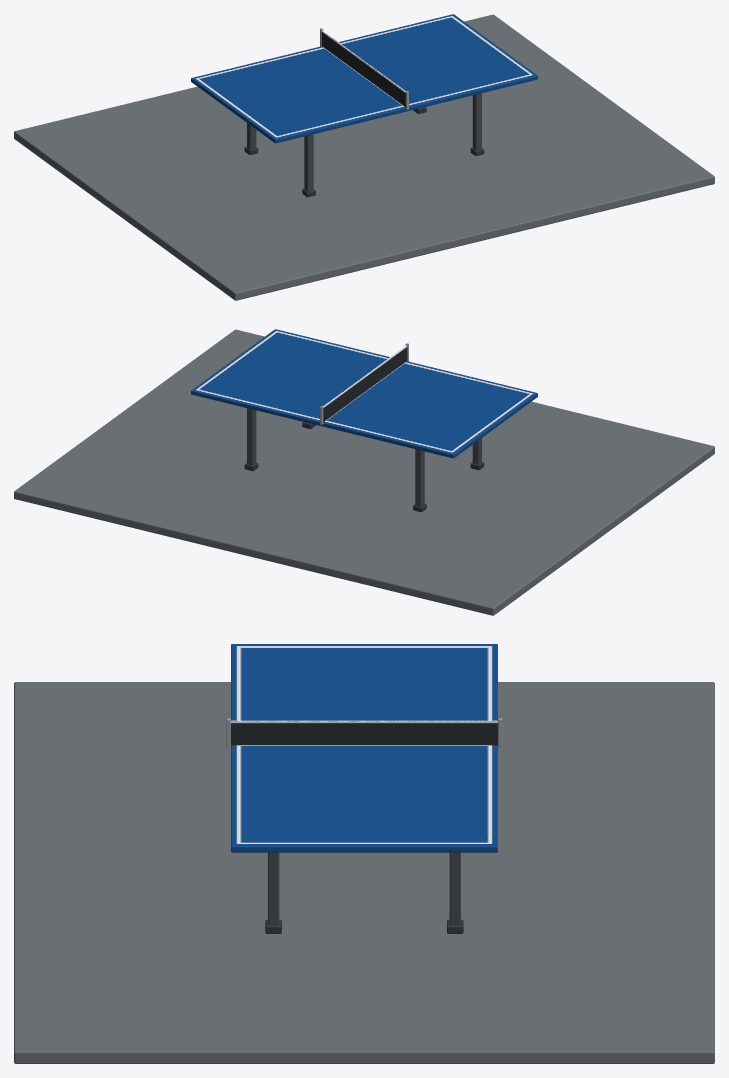
File: MesaTenis.fbx
The picture shows the model from 3 angles, top to bottom: view 1: azimuth 30°, elevation 25°; view 2: azimuth 150°, elevation 25°; view 3: azimuth 270°, elevation 25°; orthographic projection. The views are drawn at different scales.
Parts seen in each view (by area): view 1: Piso de referencia, Tablero azul con líneas, Red de tenis de mesa, Pata metálica, Pata metálica.002; view 2: Piso de referencia, Tablero azul con líneas, Red de tenis de mesa, Pata metálica.001, Pata metálica.003; view 3: Piso de referencia, Tablero azul con líneas, Red de tenis de mesa, Borde superior blanco de red, Pata metálica.002, Pata metálica.003.
Boxes of the visible parts, x1,y1,x2,y2 form: Piso de referencia: (14,14,714,300); Tablero azul con líneas: (191,14,537,143); Red de tenis de mesa: (321,32,405,106); Pata metálica: (304,134,313,191); Pata metálica.002: (472,93,481,150); Piso de referencia: (14,329,714,615); Tablero azul con líneas: (191,329,537,458); Red de tenis de mesa: (323,347,407,421); Pata metálica.001: (415,449,424,506); Pata metálica.003: (247,408,256,465); Piso de referencia: (14,682,714,1063); Tablero azul con líneas: (231,644,497,852); Red de tenis de mesa: (231,721,497,745); Borde superior blanco de red: (231,720,497,723); Pata metálica.002: (268,852,279,925); Pata metálica.003: (449,852,460,925).
Bounding box in the file's own units: 500 × 101 × 400.
